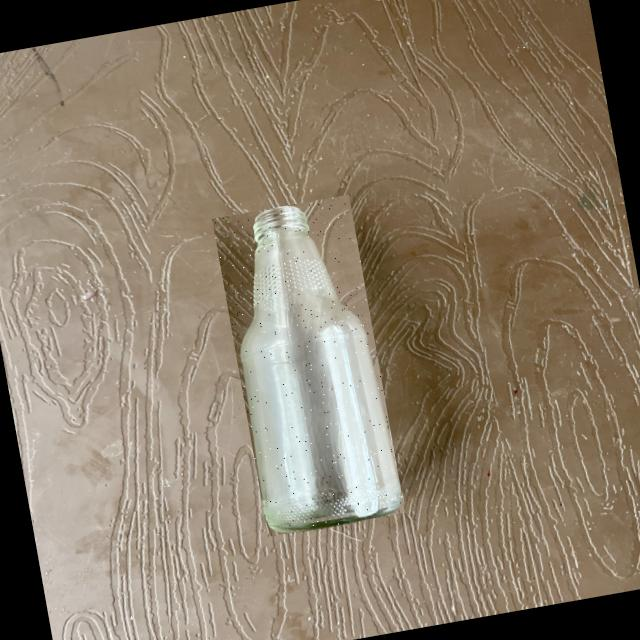Glass_Bottle: (241, 206, 401, 531)
